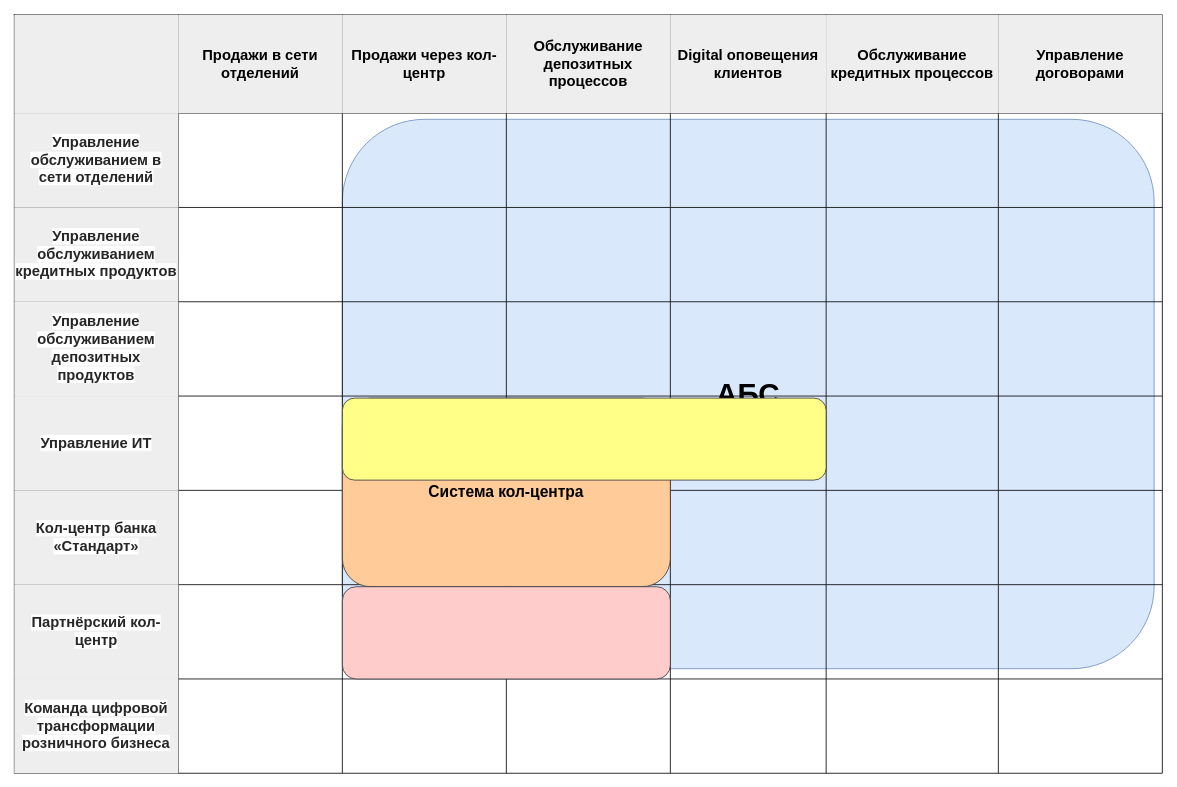
Some shapes in this 1177 by 787 pixel diagram are drawn without their labels. The centre of each missing label's shape, as x and y in pixels:
"Система партнерского кол-центра" belongs at [506,632].
"СМС-шлюз телеком-оператора" belongs at [584,438].
